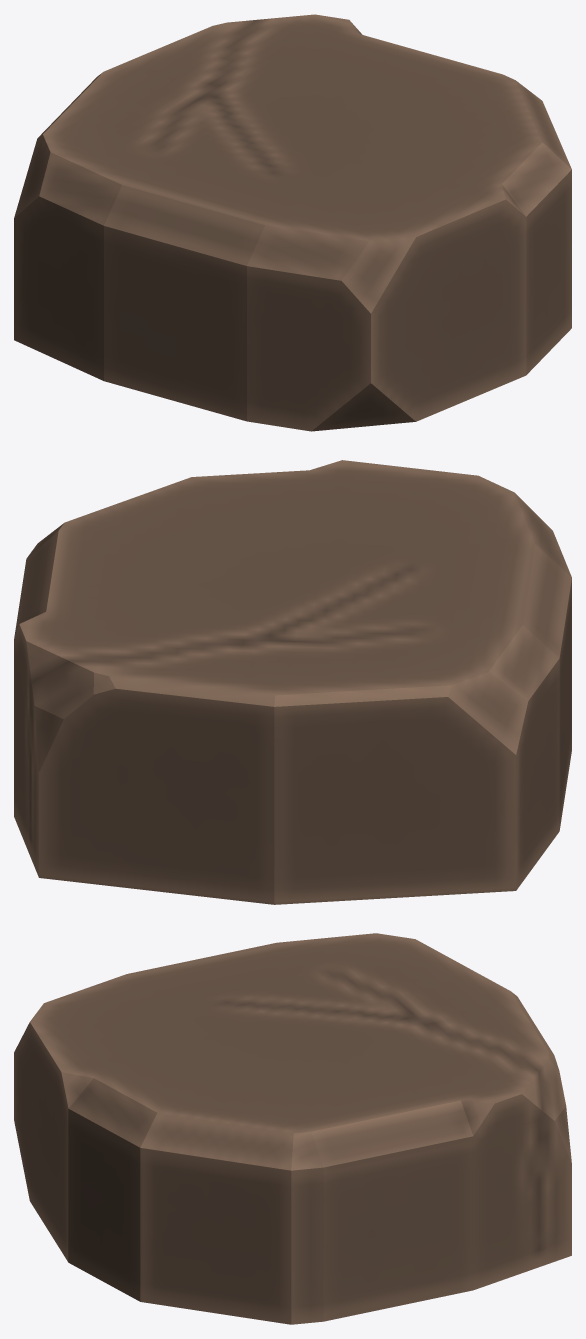
File: Lava-Singlestone001.fbx
The picture shows the model from 3 angles, top to bottom: view 1: azimuth 30°, elevation 25°; view 2: azimuth 150°, elevation 25°; view 3: azimuth 270°, elevation 25°; orthographic projection. The views are drawn at different scales.
Parts seen in each view (by area): view 1: Lava-SingleStone-001; view 2: Lava-SingleStone-001; view 3: Lava-SingleStone-001.
Boxes of the visible parts, left/top/right/bottom form: Lava-SingleStone-001: left=14, top=14, right=571, bottom=431; Lava-SingleStone-001: left=14, top=460, right=571, bottom=904; Lava-SingleStone-001: left=14, top=933, right=571, bottom=1324.
Bounding box in the file's own units: 377 × 139 × 392.
